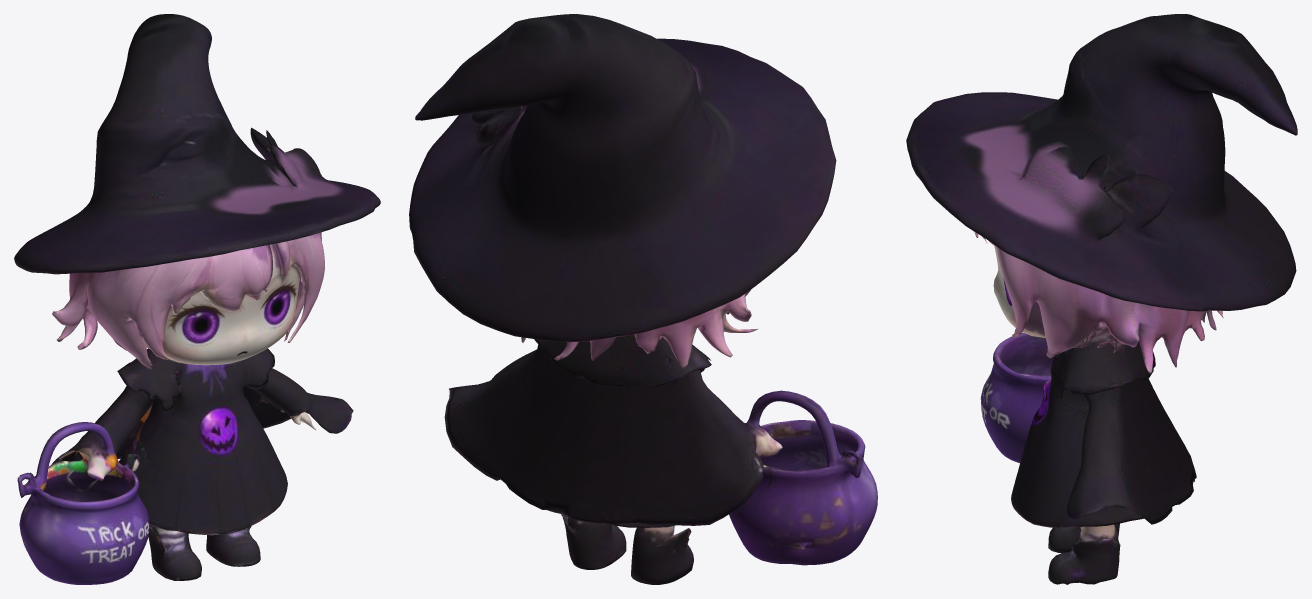
The model's file is annie_the_witch.glb.
3 renders of one model, left to right at view 1: azimuth 30°, elevation 25°; view 2: azimuth 150°, elevation 25°; view 3: azimuth 270°, elevation 25°, orthographic. The views are drawn at different scales.
Visible parts, largest first — view 1: Object_4; view 2: Object_4; view 3: Object_4.
Boxes of the visible parts, box(x1,y1,x2,y2) form: Object_4: box(14, 14, 380, 584); Object_4: box(409, 14, 877, 584); Object_4: box(906, 14, 1297, 584).
Bounding box in the file's own units: 1.48 × 2 × 1.29.
1 material, 1 textured.
